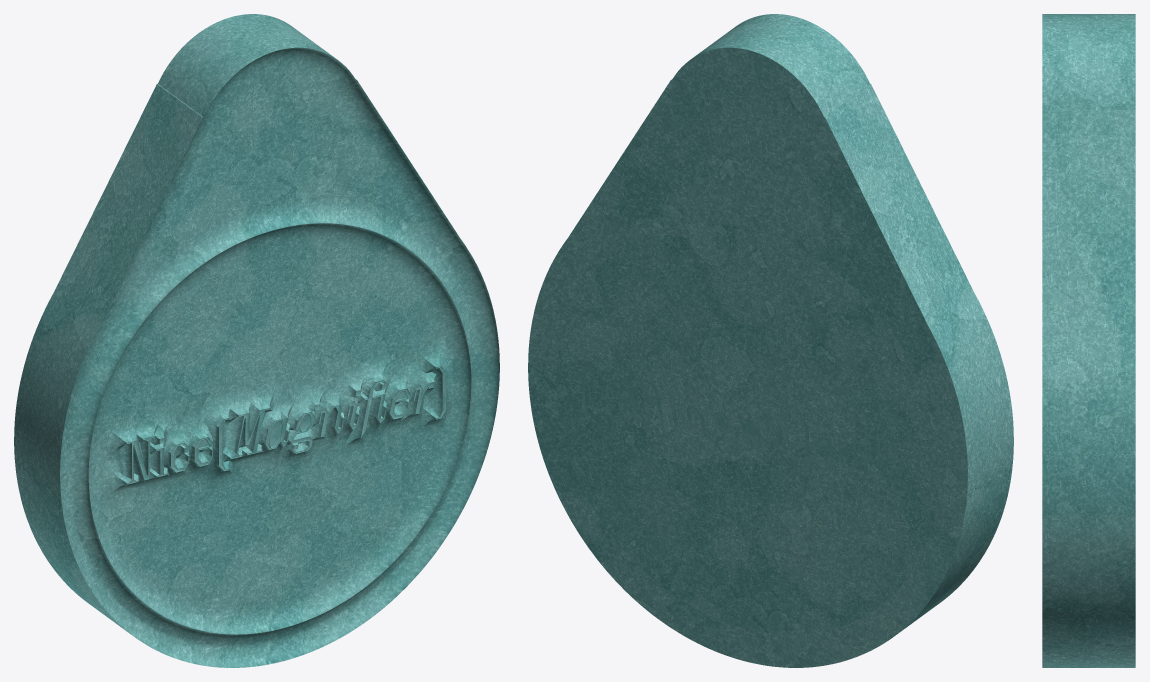
The model's file is magnifier2.gltf.
The picture shows the model from 3 angles, left to right: view 1: azimuth 30°, elevation 25°; view 2: azimuth 150°, elevation 25°; view 3: azimuth 270°, elevation 25°; orthographic projection.
Bounding box in the file's own units: 0.1172 × 0.1559 × 0.0212.
Materials: 1 (1 with a texture image).
